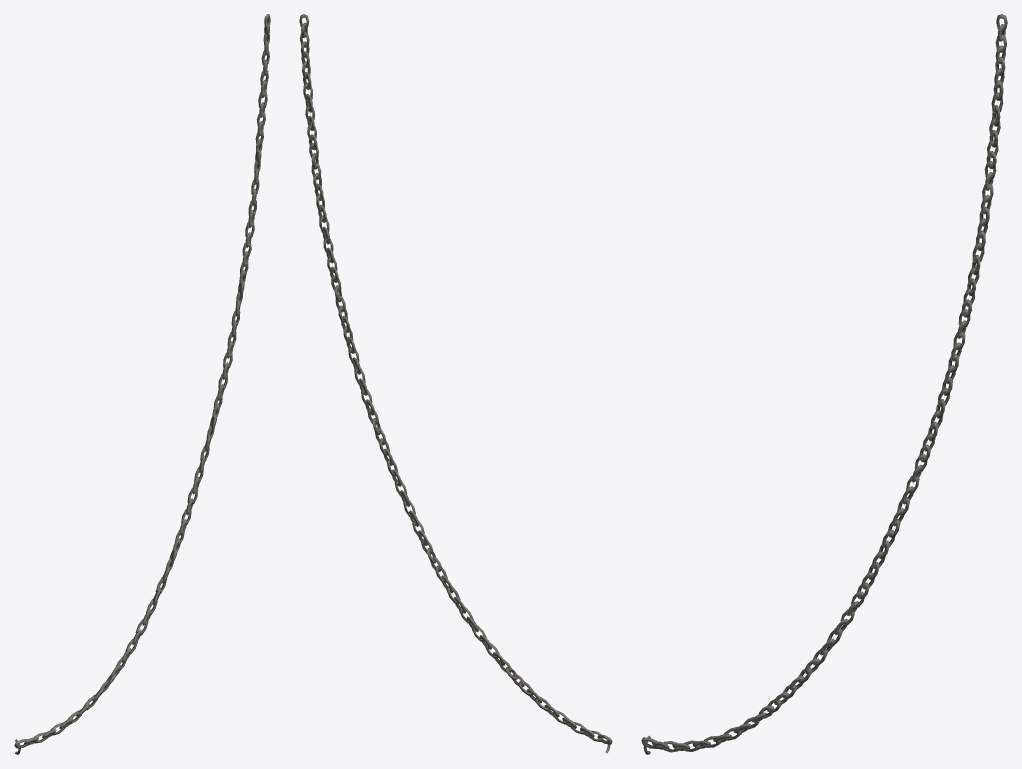
File: SM_Cave_Chain_02.6a140004.glb
3 renders of one model, left to right at view 1: azimuth 30°, elevation 25°; view 2: azimuth 150°, elevation 25°; view 3: azimuth 330°, elevation 25°, orthographic. The views are drawn at different scales.
Parts seen in each view (by area): view 1: SM_Cave_Chain_02; view 2: SM_Cave_Chain_02; view 3: SM_Cave_Chain_02.
Boxes of the visible parts, <box> form: SM_Cave_Chain_02: <box>14,14,270,754</box>; SM_Cave_Chain_02: <box>299,14,612,753</box>; SM_Cave_Chain_02: <box>641,14,1007,754</box>.
Size of the model in its own units: 5.48 by 12.42 by 0.9181.
Materials: 1 (1 with a texture image).
